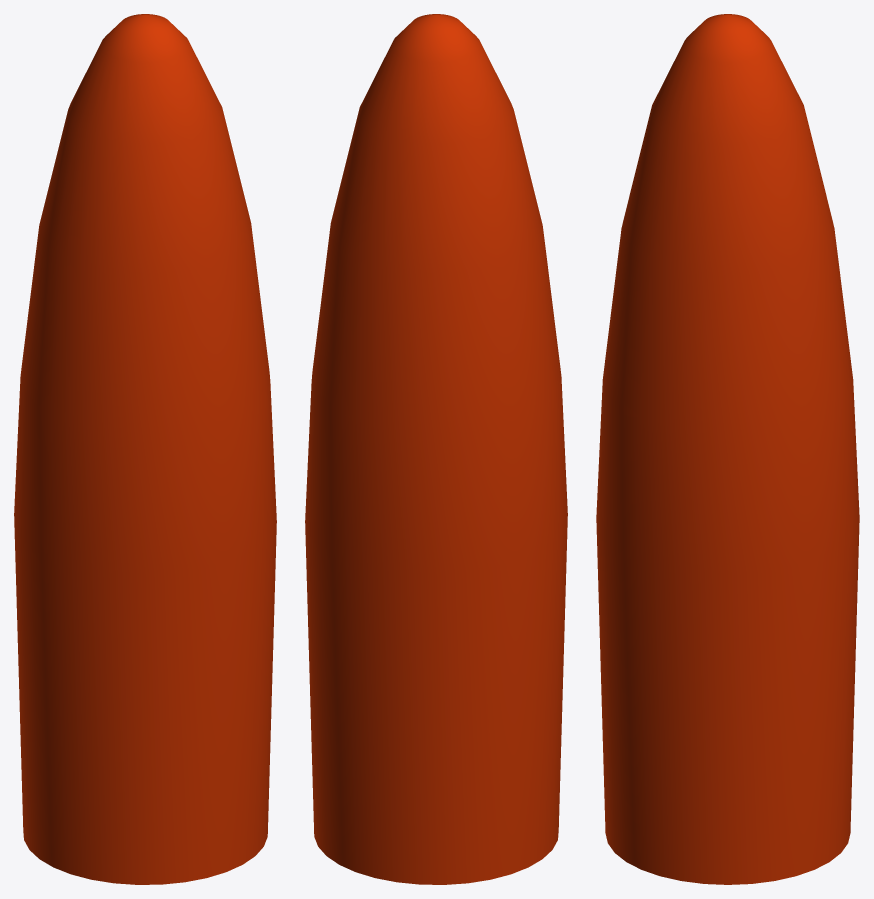
The model's file is 5.56x45_bullet.fbx.
3 views of the same model, side by side, from view 1: azimuth 30°, elevation 25°; view 2: azimuth 150°, elevation 25°; view 3: azimuth 270°, elevation 25° (orthographic).
Visible parts, largest first — view 1: Cylinder; view 2: Cylinder; view 3: Cylinder.
Boxes of the visible parts, x1,y1,x2,y2 form: Cylinder: (14, 14, 276, 884); Cylinder: (305, 14, 567, 884); Cylinder: (596, 14, 859, 884).
Size of the model in its own units: 0.6333 by 2.17 by 0.6333.
